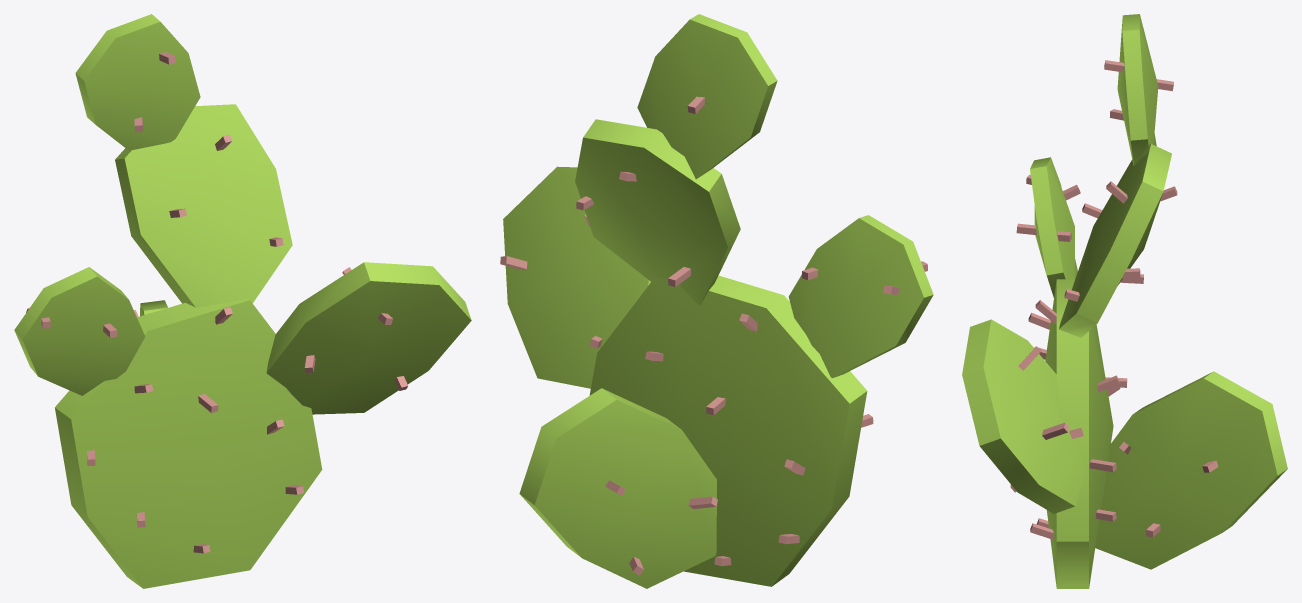
File: prickly_pear.gltf
3 renders of one model, left to right at view 1: azimuth 30°, elevation 25°; view 2: azimuth 150°, elevation 25°; view 3: azimuth 270°, elevation 25°, orthographic. The views are drawn at different scales.
Visible parts, largest first — view 1: pCube1, pCube2, pCube5, pCube3, pCube4; view 2: pCube1, pCube6, pCube5, pCube2, pCube4, pCube3; view 3: pCube6, pCube5, pCube1, pCube2, pCube3, pCube4.
Boxes of the visible parts, x1=… form: pCube1: x1=55, y1=298, x2=322, y2=588; pCube2: x1=115, y1=104, x2=292, y2=307; pCube5: x1=266, y1=262, x2=471, y2=414; pCube3: x1=75, y1=14, x2=200, y2=151; pCube4: x1=14, y1=267, x2=145, y2=395; pCube1: x1=589, y1=275, x2=867, y2=586; pCube6: x1=519, y1=388, x2=716, y2=588; pCube5: x1=503, y1=166, x2=650, y2=388; pCube2: x1=575, y1=119, x2=740, y2=304; pCube4: x1=788, y1=215, x2=933, y2=378; pCube3: x1=637, y1=14, x2=777, y2=179; pCube6: x1=1095, y1=371, x2=1287, y2=569; pCube5: x1=962, y1=319, x2=1085, y2=513; pCube1: x1=1045, y1=279, x2=1113, y2=588; pCube2: x1=1059, y1=144, x2=1171, y2=337; pCube3: x1=1117, y1=14, x2=1158, y2=165; pCube4: x1=1030, y1=157, x2=1077, y2=297.
Bounding box in the file's own units: 2.19 × 2.68 × 1.49.
